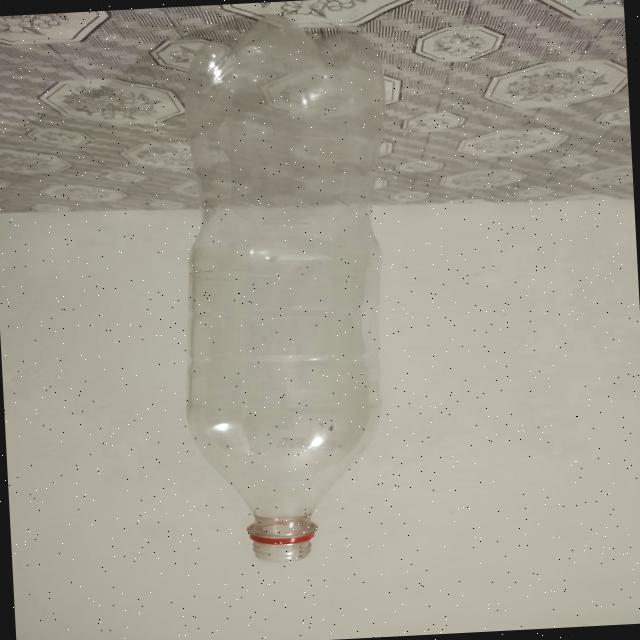bottle: (162, 11, 412, 574)
